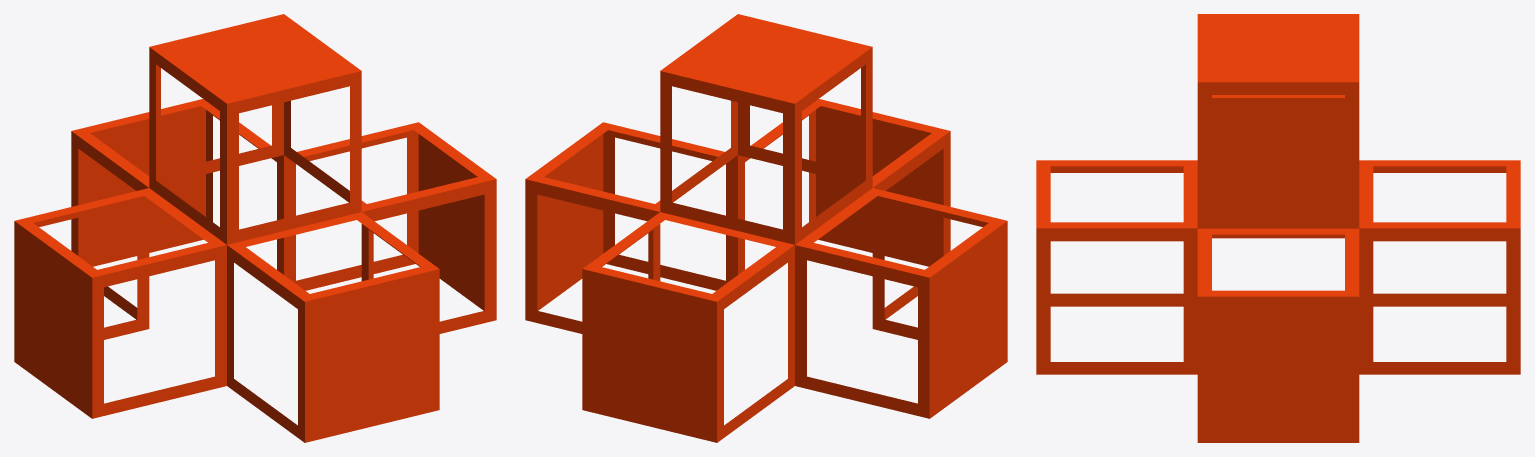
Rendered from threlte.glb.
3 renders of one model, left to right at view 1: azimuth 30°, elevation 25°; view 2: azimuth 150°, elevation 25°; view 3: azimuth 270°, elevation 25°, orthographic. The views are drawn at different scales.
Parts seen in each view (by area): view 1: Cube; view 2: Cube; view 3: Cube.
Part boxes in pixels (x1,y1,x2,y2): Cube: (14, 14, 496, 442); Cube: (525, 14, 1007, 442); Cube: (1036, 14, 1520, 442).
Size of the model in its own units: 6 by 4 by 6.
